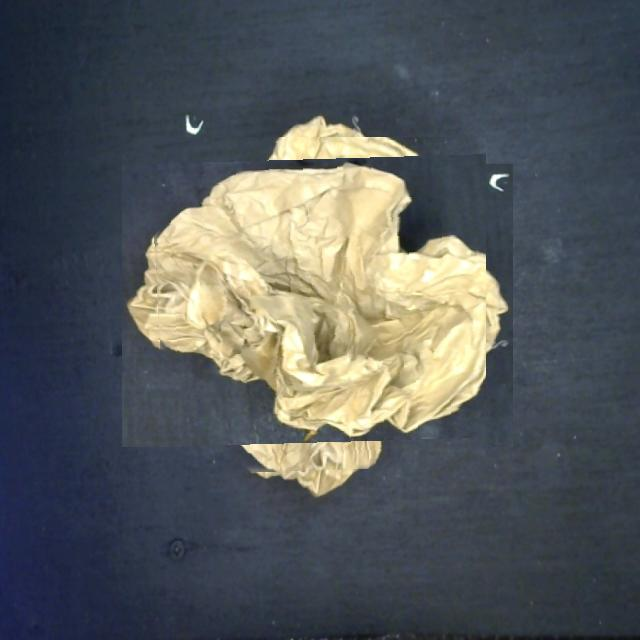biodegradable: (149, 137, 486, 475)
